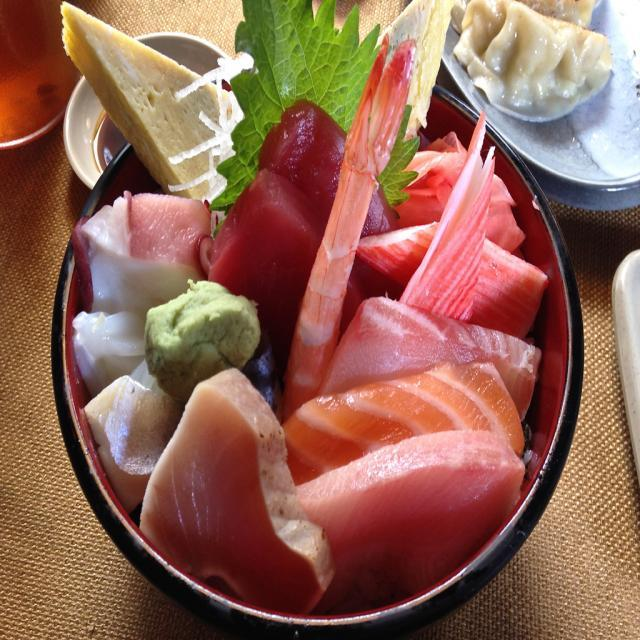Cheese: (61, 0, 231, 200)
